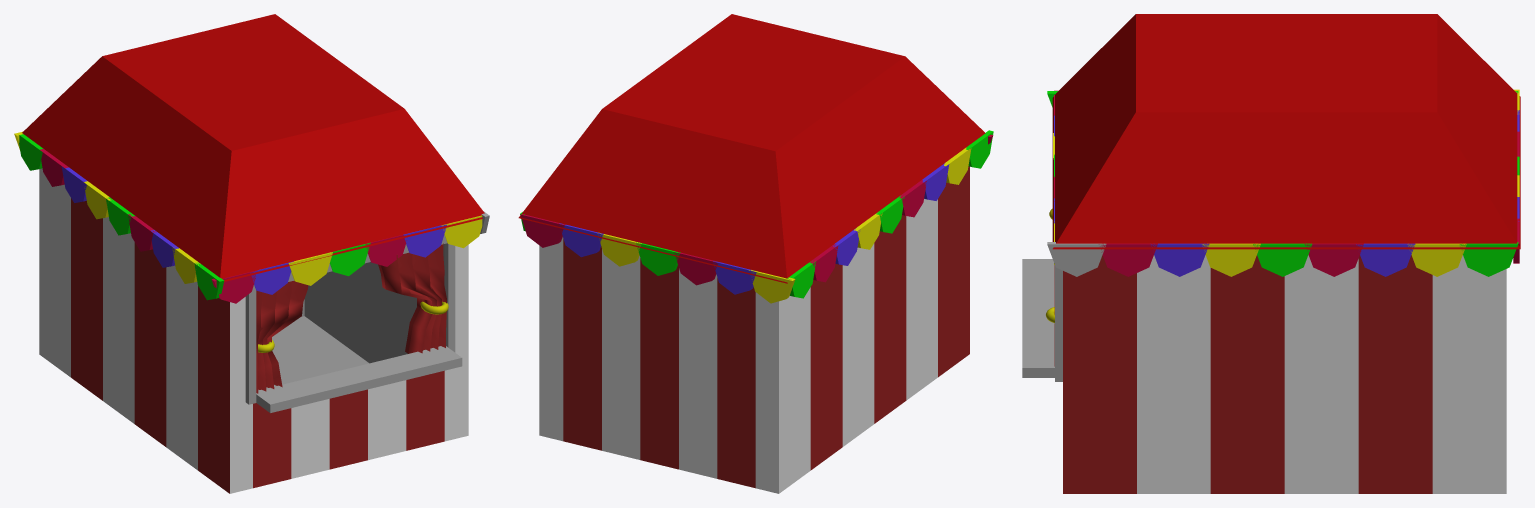
Rendered from TeatroRojo1 (2).fbx.
3 renders of one model, left to right at view 1: azimuth 30°, elevation 25°; view 2: azimuth 150°, elevation 25°; view 3: azimuth 270°, elevation 25°, orthographic. The views are drawn at different scales.
Visible parts, largest first — view 1: Techo1, Escenario, Fondo, R_Curtain, L_Curtain, pCylinder30, pCylinder31, pCylinder33, pCylinder29, pCylinder32, pCylinder34, pCylinder28 (+9 smaller); view 2: Escenario, Techo1, pCylinder27, pCylinder21, pCylinder24, pCylinder25, pCylinder26, pCylinder23, pCylinder22, pCylinder16, pCylinder14, pCylinder18 (+6 smaller); view 3: Escenario, Techo1, pCylinder1, pCylinder9, pCylinder4, pCylinder2, pCylinder6, pCylinder8, pCylinder5, pCylinder7, pCylinder3.
Part boxes in pixels (box(x1,y1,x2,y2)): Techo1: box(22, 14, 484, 281); Escenario: box(39, 168, 468, 493); Fondo: box(258, 244, 444, 390); R_Curtain: box(378, 243, 446, 353); L_Curtain: box(256, 281, 308, 393); pCylinder30: box(288, 252, 332, 285); pCylinder31: box(403, 224, 446, 257); pCylinder33: box(326, 242, 370, 276); pCylinder29: box(250, 261, 293, 294); pCylinder32: box(441, 215, 482, 248); pCylinder34: box(365, 235, 406, 266); pCylinder28: box(211, 270, 257, 303); Escenario: box(539, 166, 969, 493); Techo1: box(518, 14, 985, 283); pCylinder27: box(749, 270, 795, 303); pCylinder21: box(520, 214, 565, 247); pCylinder24: box(636, 242, 680, 275); pCylinder25: box(674, 252, 718, 285); pCylinder26: box(713, 261, 756, 294); pCylinder23: box(597, 232, 641, 266); pCylinder22: box(559, 223, 603, 257); pCylinder16: box(809, 244, 838, 282); pCylinder14: box(876, 195, 904, 233); pCylinder18: box(899, 180, 926, 217); Escenario: box(1022, 255, 1506, 493); Techo1: box(1052, 14, 1520, 249); pCylinder1: box(1047, 242, 1106, 276); pCylinder9: box(1459, 242, 1518, 276); pCylinder4: box(1202, 243, 1260, 276); pCylinder2: box(1099, 243, 1157, 276); pCylinder6: box(1305, 243, 1363, 276); pCylinder8: box(1407, 243, 1466, 276); pCylinder5: box(1253, 243, 1312, 276); pCylinder7: box(1356, 243, 1415, 276); pCylinder3: box(1151, 243, 1209, 276).
Bounding box in the file's own units: 15.98 × 17.42 × 21.66.
